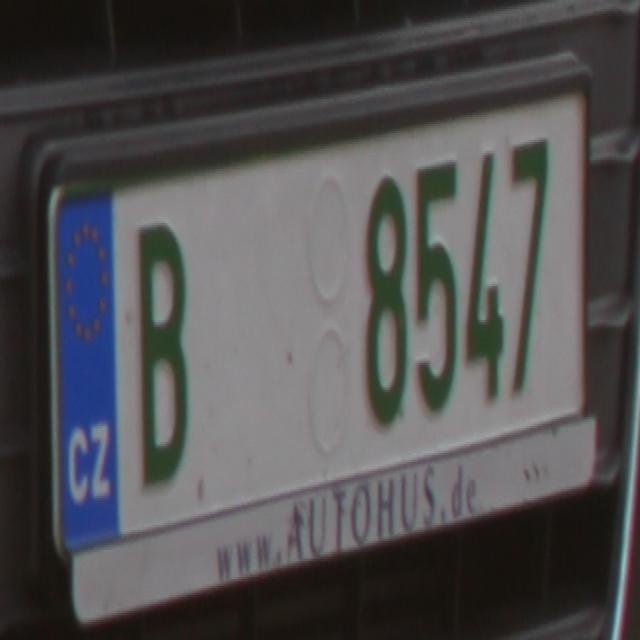4: (461, 146, 506, 399)
5: (414, 151, 456, 415)
7: (506, 133, 548, 399)
8: (365, 171, 410, 426)
B: (136, 218, 191, 492)
